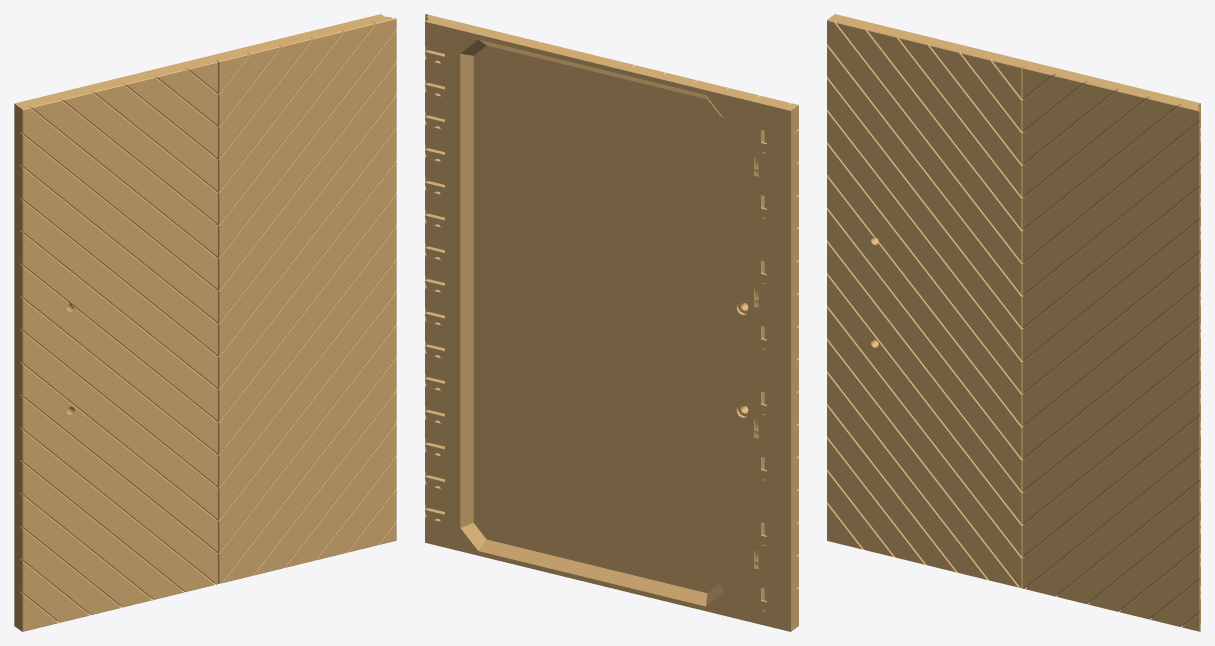
File: Door_Chevron_2W-4H_RH.lib.glb
3 renders of one model, left to right at view 1: azimuth 30°, elevation 25°; view 2: azimuth 150°, elevation 25°; view 3: azimuth 330°, elevation 25°, orthographic.
Visible parts, largest first — view 1: Door_Chevron_2W-4H_RH; view 2: Door_Chevron_2W-4H_RH; view 3: Door_Chevron_2W-4H_RH.
Boxes of the visible parts, box(x1,y1,x2,y2) form: Door_Chevron_2W-4H_RH: box(14, 14, 396, 631); Door_Chevron_2W-4H_RH: box(425, 14, 798, 631); Door_Chevron_2W-4H_RH: box(827, 14, 1200, 631).
Bounding box in the file's own units: 167 × 223 × 6.51.
